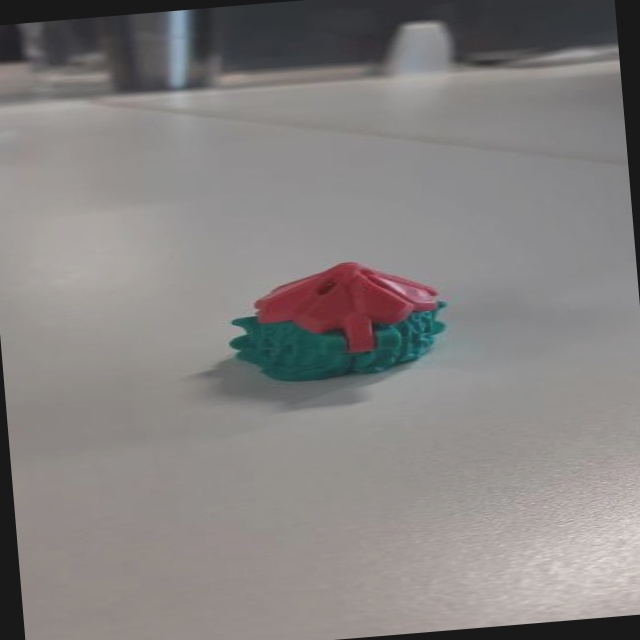House: (210, 247, 462, 390)
